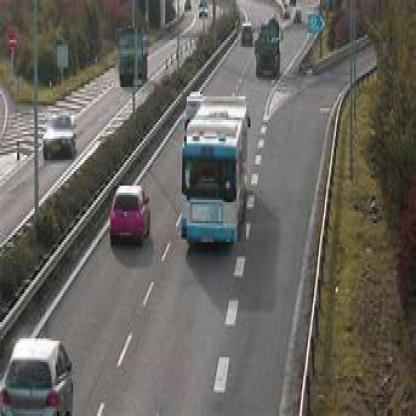bus: (188, 98, 248, 246)
car: (6, 340, 74, 415), (110, 187, 153, 238), (46, 116, 77, 163), (183, 93, 202, 126), (240, 27, 253, 48), (291, 8, 303, 27)
truck: (115, 30, 144, 91), (257, 25, 288, 79)
